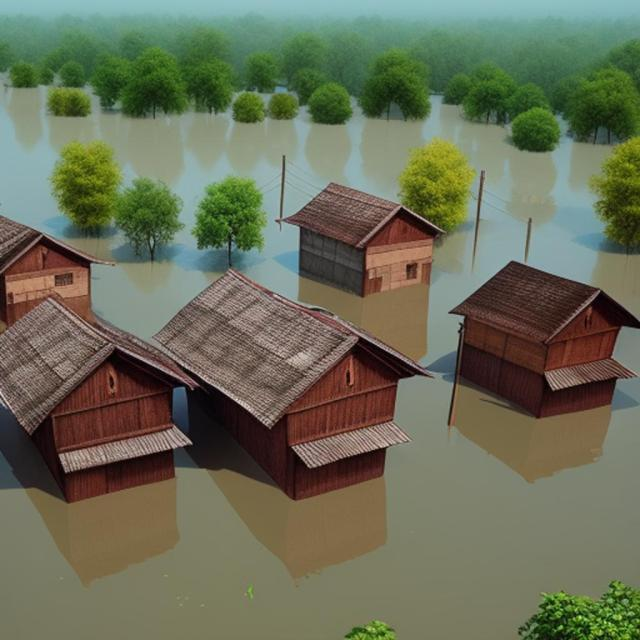flood: (0, 89, 640, 640)
house: (152, 267, 438, 502), (0, 278, 202, 526), (435, 251, 640, 421), (286, 178, 436, 300), (0, 214, 88, 334)
